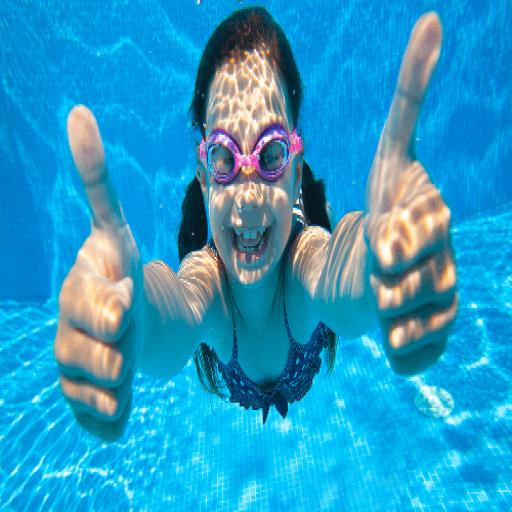swimming: (52, 5, 461, 441)
